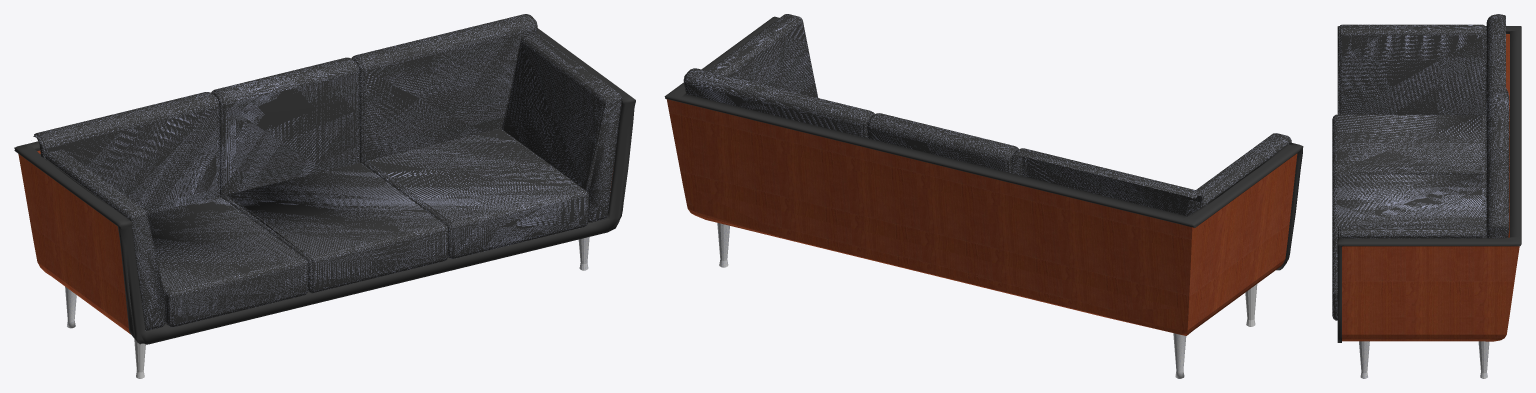
The picture shows the model from 3 angles, left to right: view 1: azimuth 30°, elevation 25°; view 2: azimuth 150°, elevation 25°; view 3: azimuth 270°, elevation 25°; orthographic projection. The views are drawn at different scales.
Parts seen in each view (by area): view 1: HCushion (×7), HSofaFrm; view 2: HSofaFrm, HCushion (×6); view 3: HCushion (×7), HSofaFrm, HGlides (×2).
Part boxes in pixels (left/top/right/bottom): HCushion (×7): left=14, top=14, right=635, bottom=344; HSofaFrm: left=18, top=105, right=621, bottom=334; HSofaFrm: left=666, top=99, right=1297, bottom=335; HCushion (×6): left=664, top=14, right=1303, bottom=270; HCushion (×7): left=1332, top=14, right=1521, bottom=342; HSofaFrm: left=1342, top=34, right=1519, bottom=341; HGlides (×2): left=1359, top=341, right=1489, bottom=378.
Size of the model in its own units: 86.56 by 31.73 by 30.83.
Materials: 4 (1 with a texture image).
